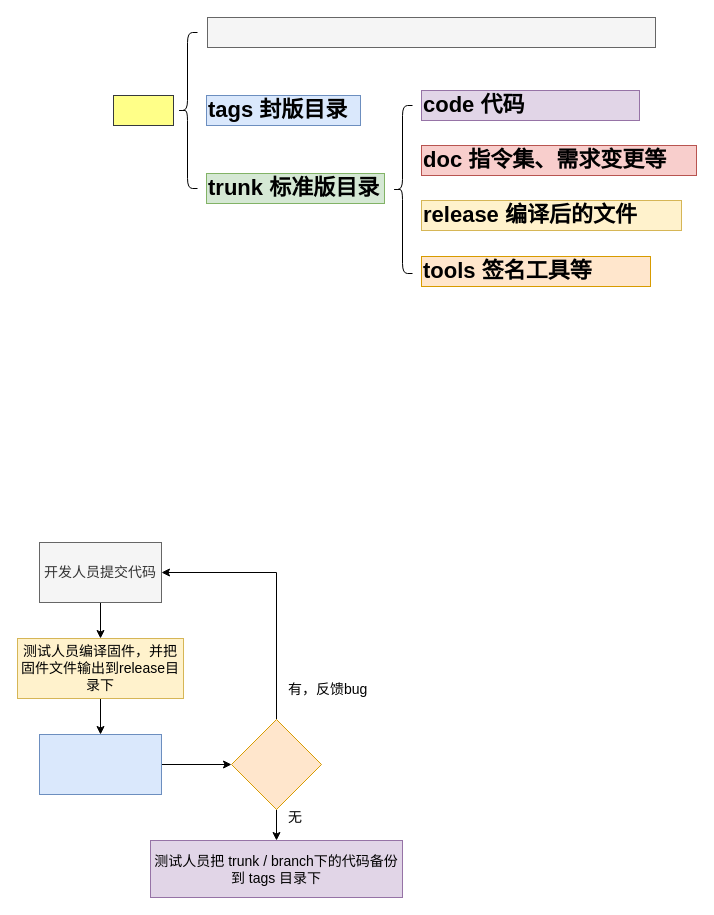
Some shapes in this 714 by 915 pixel diagram are drawn without their labels. Each missing label, with the centre of its shape:
"branch 定制版本代码目录， 客户 + 版本 + 日期" goes at (x=431, y=32).
"Hxx" goes at (x=143, y=110).
"有bug？" goes at (x=276, y=764).
"测试人员执行测试" goes at (x=100, y=764).
